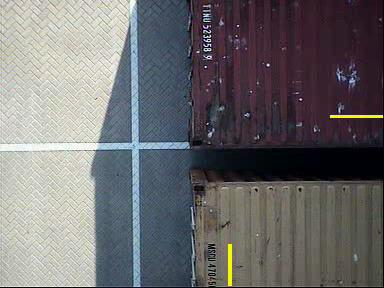groundmarker_2: (107, 153, 170, 193), (104, 6, 166, 46)
